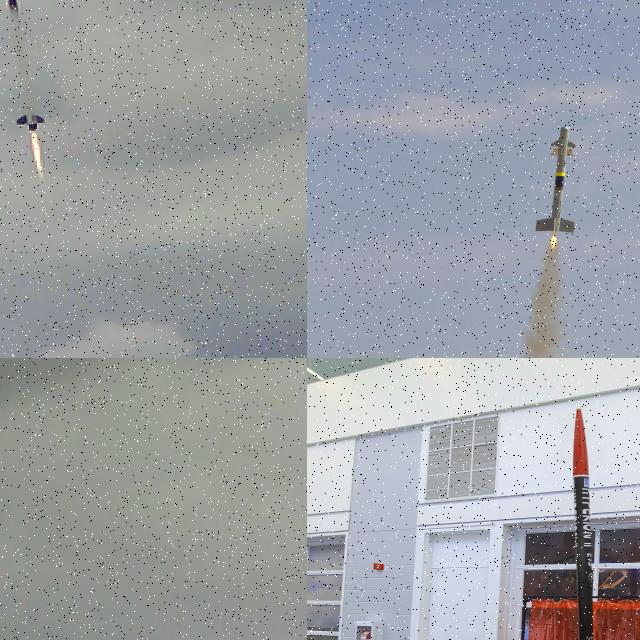Rocket: (3, 0, 45, 131), (573, 401, 594, 640), (535, 125, 576, 234)
